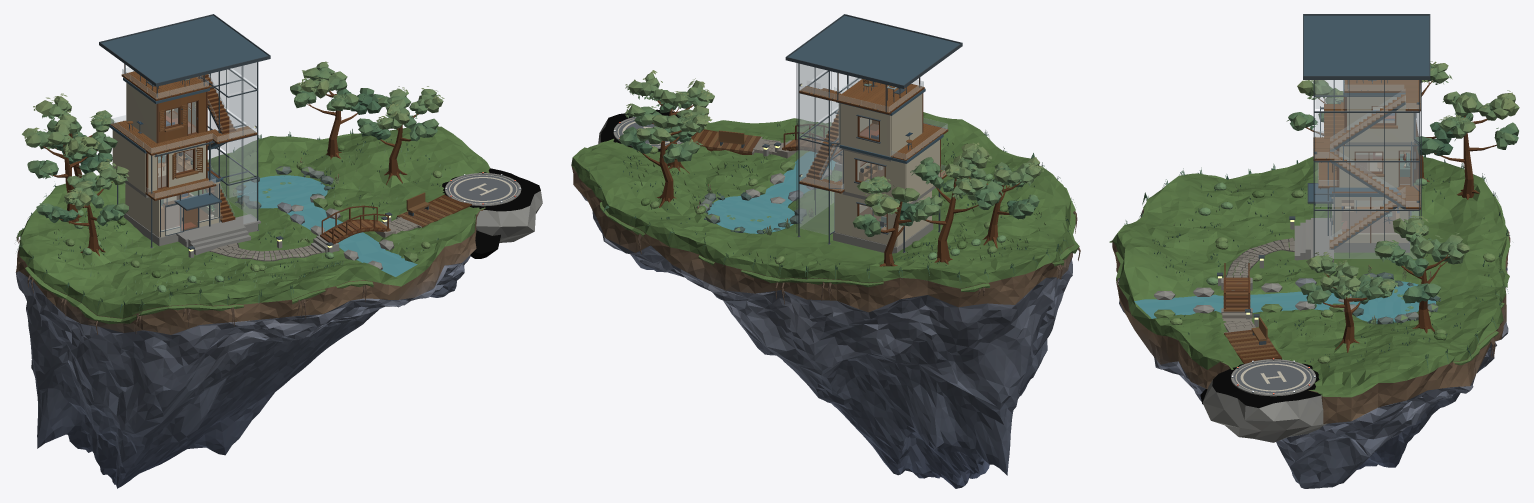
Rendered from aerie_lod1.glb.
The picture shows the model from 3 angles, left to right: view 1: azimuth 30°, elevation 25°; view 2: azimuth 150°, elevation 25°; view 3: azimuth 270°, elevation 25°; orthographic projection. The views are drawn at different scales.
Visible parts, largest first — view 1: Island, Rock, House, Trees, Glass, Turf, Pad, Water, Paths, Interiors; view 2: Island, Rock, House, Trees, Glass, Turf, Water, Paths, Pad, Interiors; view 3: Island, House, Glass, Trees, Rock, Pad, Paths, Turf, Water, Interiors.
Part boxes in pixels (x1,y1,x2,y2): Island: (16, 126, 490, 334); Rock: (16, 166, 500, 488); House: (99, 14, 270, 255); Trees: (22, 61, 444, 256); Glass: (111, 62, 256, 234); Turf: (16, 129, 451, 334); Pad: (442, 168, 542, 242); Water: (237, 175, 417, 276); Paths: (209, 192, 471, 261); Interiors: (158, 102, 215, 230); Island: (571, 112, 1074, 312); Rock: (574, 122, 1072, 488); House: (785, 14, 962, 253); Trees: (619, 70, 1043, 266); Glass: (800, 64, 947, 234); Turf: (587, 120, 1080, 304); Water: (707, 137, 835, 233); Paths: (690, 124, 841, 163); Pad: (598, 109, 683, 151); Interiors: (859, 124, 886, 229); Island: (1112, 156, 1507, 423); House: (1294, 14, 1430, 262); Glass: (1315, 80, 1420, 258); Trees: (1286, 61, 1519, 352); Rock: (1118, 263, 1508, 488); Pad: (1202, 358, 1326, 442); Paths: (1223, 237, 1294, 363); Turf: (1109, 154, 1510, 368); Water: (1134, 281, 1435, 323); Interiors: (1333, 107, 1410, 232).
Size of what is drawn, in the model's own units: 36.12 by 29.76 by 24.1.
